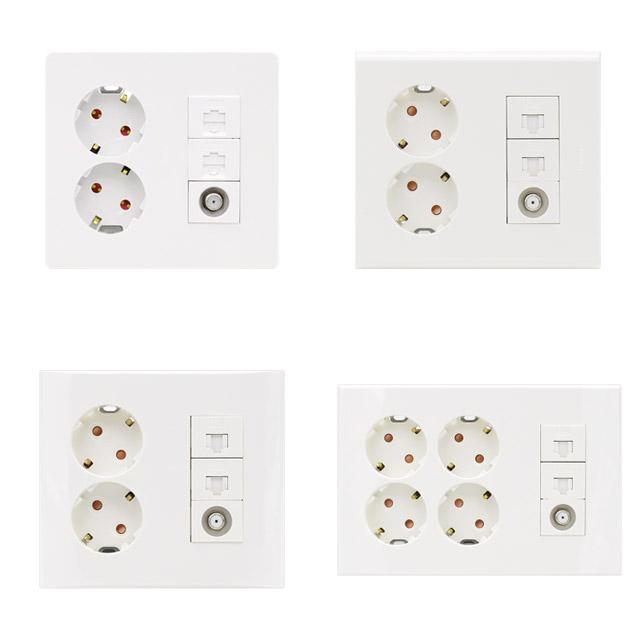typeb: (28, 34, 188, 290)
